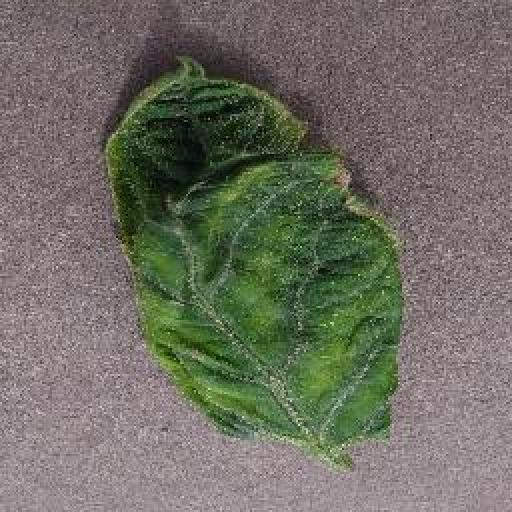disease_tomato: (104, 48, 403, 448)
